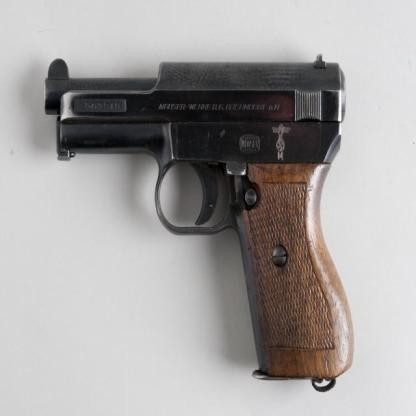weapon: (44, 54, 354, 393)
